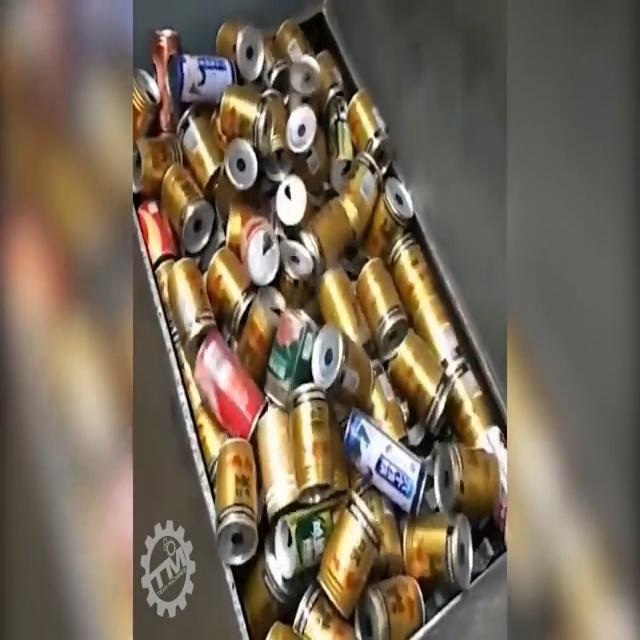Broyeur: (396, 374, 506, 626)
